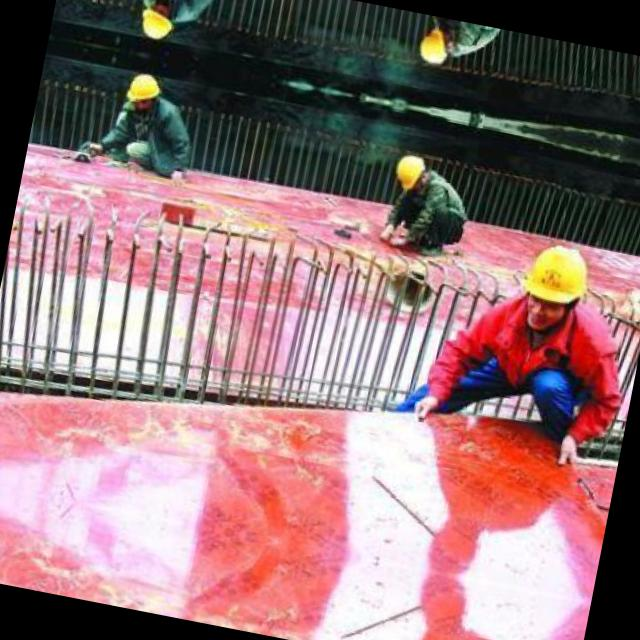helmet: (509, 232, 599, 336), (120, 66, 164, 116), (388, 147, 432, 195), (413, 21, 456, 68), (133, 0, 178, 44)
